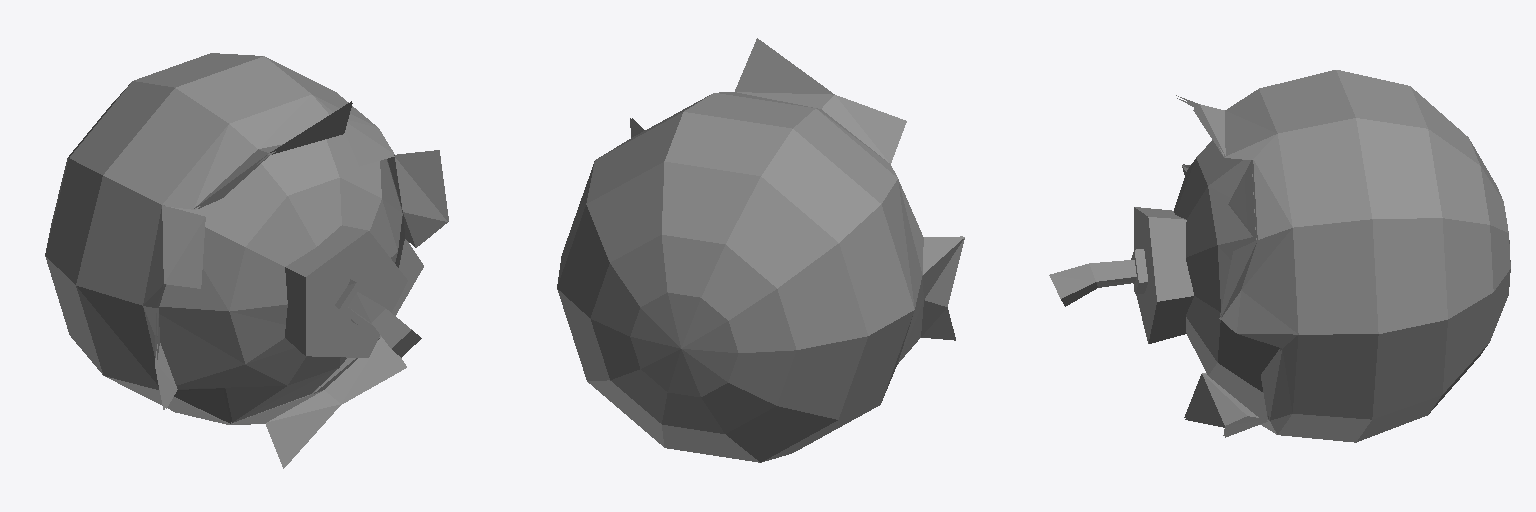
The model's file is Bomb.obj.
3 renders of one model, left to right at view 1: azimuth 30°, elevation 25°; view 2: azimuth 150°, elevation 25°; view 3: azimuth 270°, elevation 25°, orthographic.
Visible parts, largest first — view 1: rdmobj00, rdmobj01; view 2: rdmobj00; view 3: rdmobj00, rdmobj01.
Part boxes in pixels (x1,y1,x2,y2): rdmobj00: (45, 53, 448, 468); rdmobj01: (285, 225, 421, 357); rdmobj00: (557, 38, 964, 462); rdmobj00: (1174, 70, 1510, 442); rdmobj01: (1049, 207, 1193, 343).
Bounding box in the file's own units: 34 × 34.51 × 41.58.